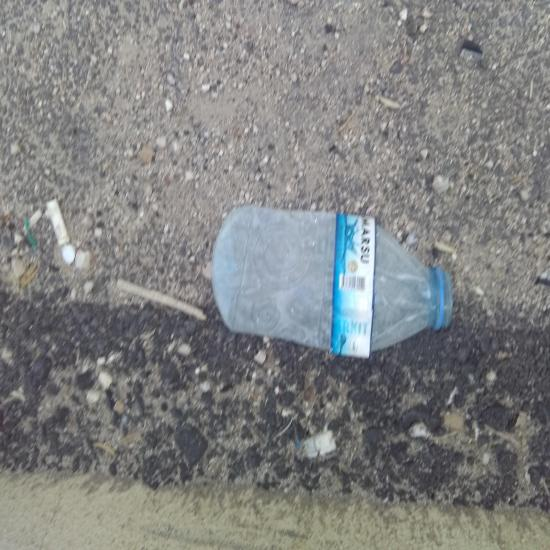Other plastic: (41, 179, 148, 324), (300, 430, 426, 550)
Plastic bottle cap: (38, 2, 55, 16)
